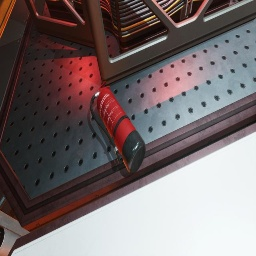FireExtinguisher ]: (90, 81, 146, 174)
